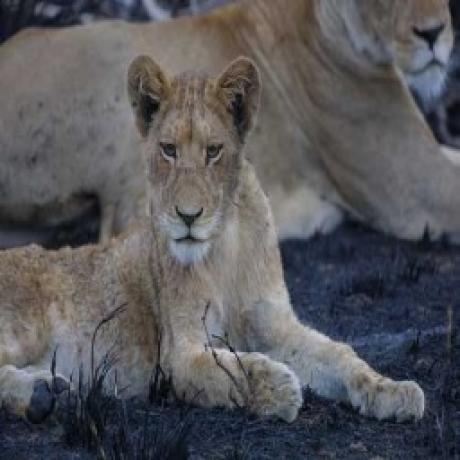Lion: (0, 52, 426, 420), (0, 0, 460, 237)
